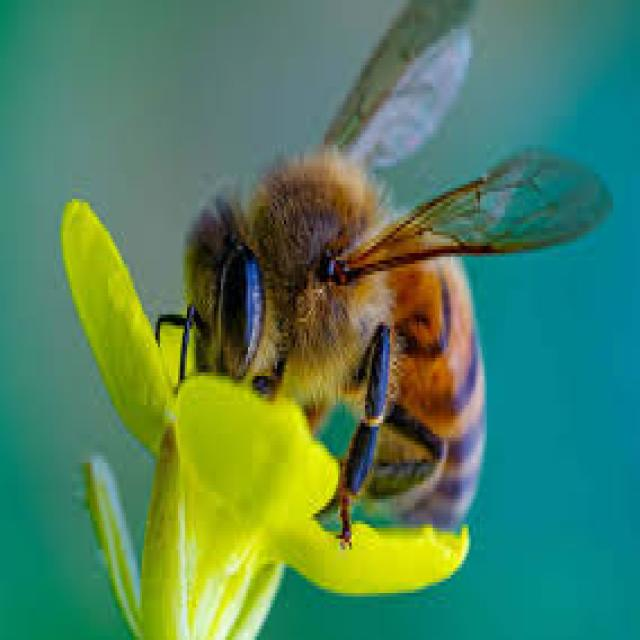Bees: (156, 1, 614, 559)
